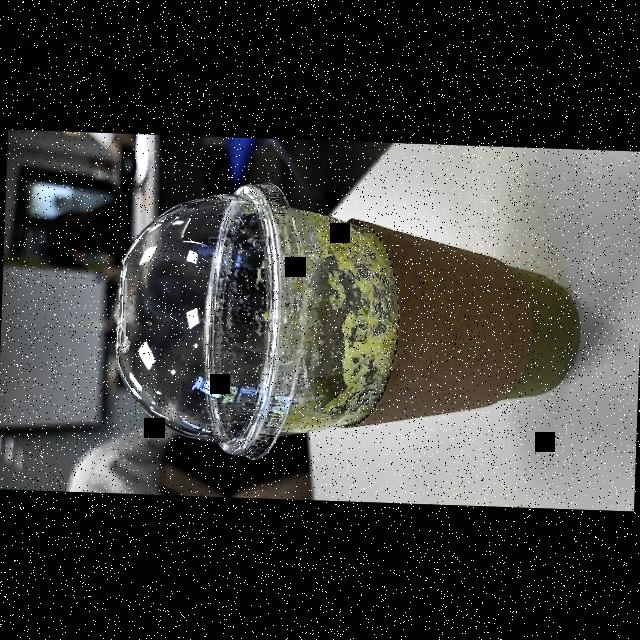plastic_cup: (104, 171, 584, 473)
plastic_cup_lid: (104, 173, 310, 463)
